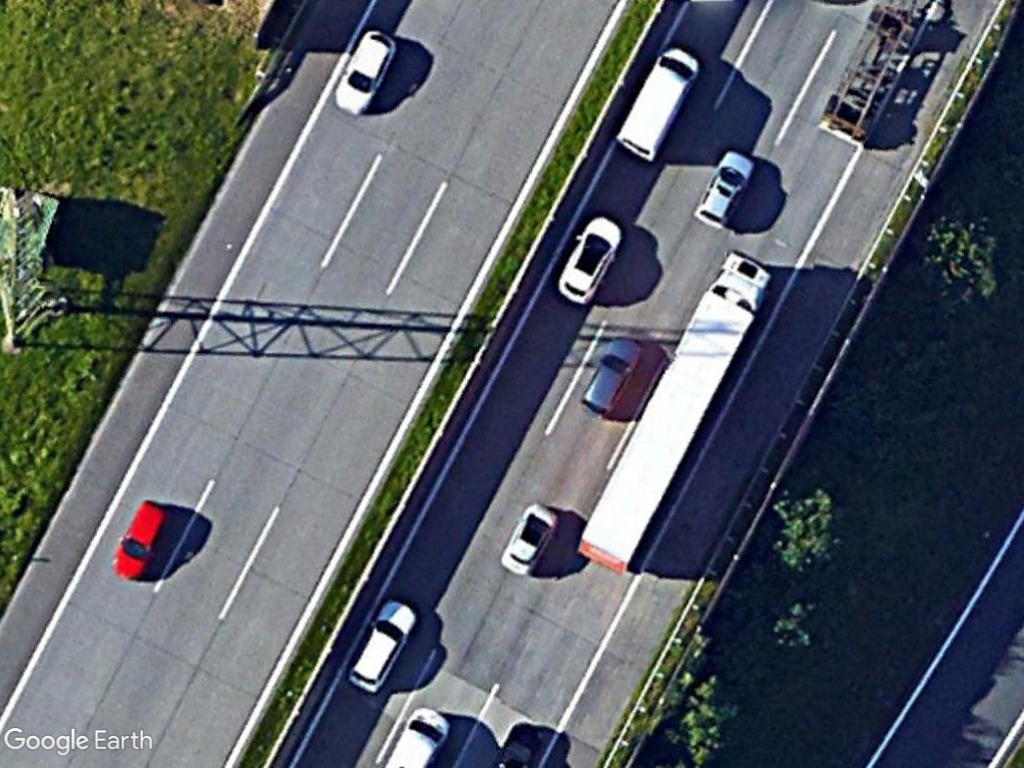car: (341, 591, 423, 694), (553, 213, 629, 309), (330, 21, 401, 119), (575, 332, 651, 423), (108, 494, 172, 588), (693, 147, 761, 232), (496, 499, 562, 582)
longvehicle: (574, 248, 780, 575)
van: (610, 42, 705, 164)
